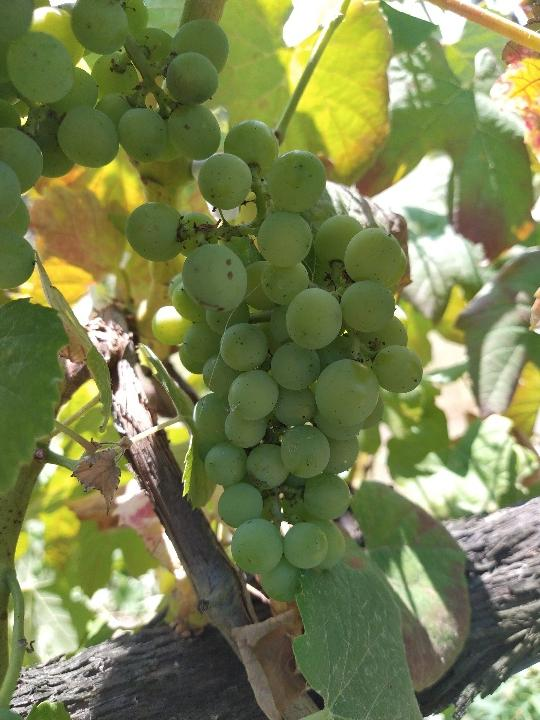grape: (122, 117, 434, 606)
